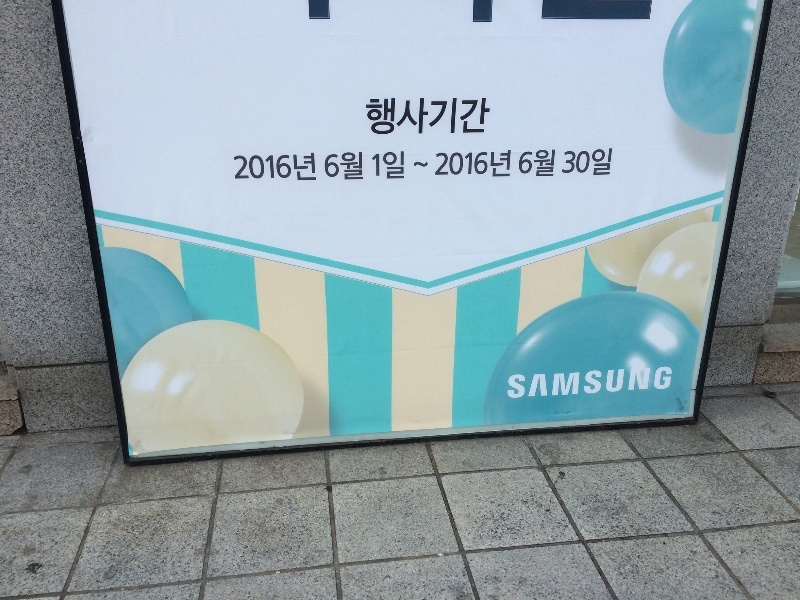text: (369, 98, 384, 135), (385, 98, 400, 135), (401, 98, 416, 135), (417, 98, 432, 135), (433, 98, 448, 135), (449, 98, 464, 135), (465, 98, 480, 135), (513, 367, 528, 401), (529, 367, 544, 401), (545, 367, 560, 401), (561, 367, 576, 401), (577, 367, 592, 401), (593, 367, 608, 401), (609, 367, 624, 401), (625, 367, 640, 401), (641, 367, 656, 401), (657, 367, 672, 401), (241, 151, 256, 183), (257, 151, 272, 183), (273, 151, 288, 183), (289, 151, 304, 183), (337, 152, 352, 183), (529, 148, 544, 178), (385, 151, 400, 181), (497, 151, 513, 178), (577, 149, 592, 177), (593, 149, 608, 177), (305, 151, 318, 183), (449, 151, 464, 178), (465, 151, 480, 178), (481, 151, 496, 178), (481, 98, 491, 135), (545, 148, 557, 178), (372, 151, 384, 181), (325, 152, 336, 183), (353, 152, 364, 183), (437, 151, 448, 178), (566, 149, 576, 177), (520, 148, 528, 178), (233, 151, 240, 183), (364, 98, 368, 135), (609, 149, 614, 177), (508, 367, 512, 401), (401, 151, 405, 181), (417, 161, 429, 170), (413, 161, 416, 170)
